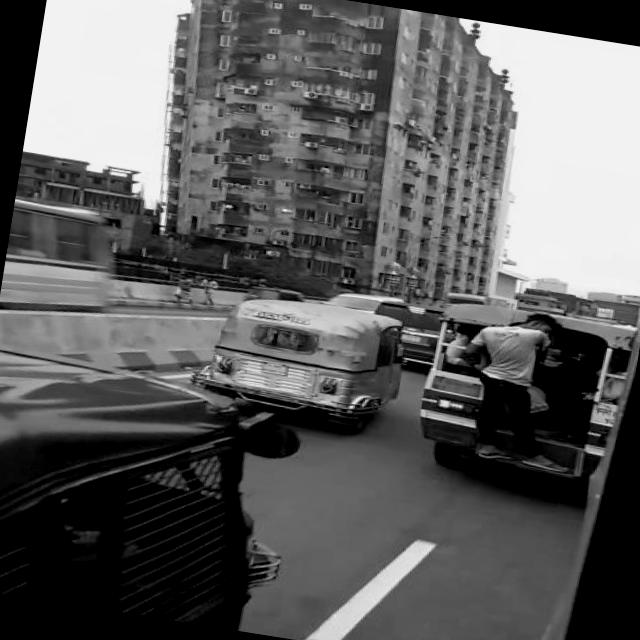bus: (412, 290, 637, 506)
motorcycle: (180, 282, 416, 445)
